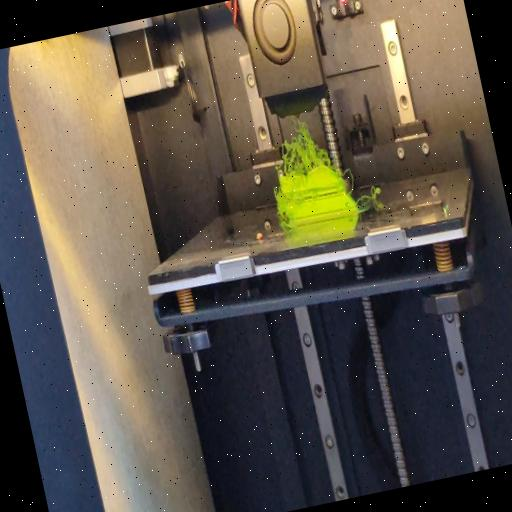spaghetti: (267, 114, 333, 184), (352, 188, 386, 216), (338, 162, 356, 202), (278, 218, 292, 232)
